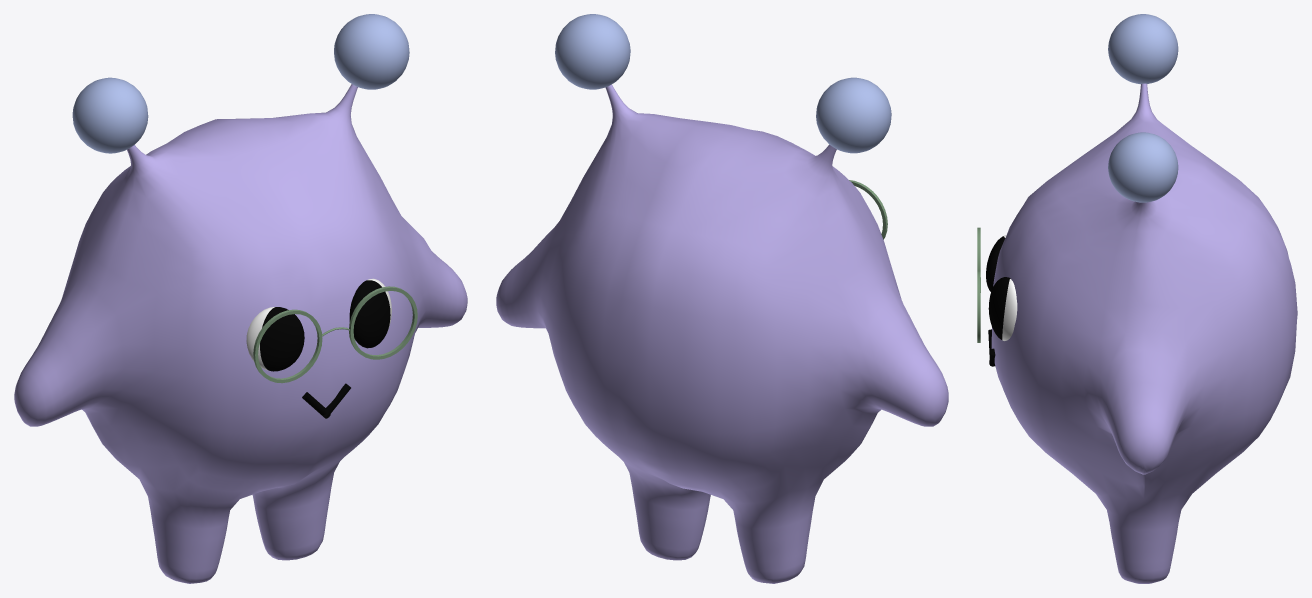
The model's file is bloby old.fbx.
3 renders of one model, left to right at view 1: azimuth 30°, elevation 25°; view 2: azimuth 150°, elevation 25°; view 3: azimuth 270°, elevation 25°, orthographic. The views are drawn at different scales.
Parts seen in each view (by area): view 1: Cube, Sphere.001, Sphere, Sphere.004, Sphere.005, Circle, Circle.001; view 2: Cube, Sphere, Sphere.001; view 3: Cube, Sphere.001, Sphere, Sphere.005, Sphere.004.
Boxes of the visible parts, box(x1,y1,x2,y2) form: Cube: box(14, 84, 467, 583); Sphere.001: box(334, 14, 409, 89); Sphere: box(72, 77, 148, 153); Sphere.004: box(246, 307, 304, 371); Sphere.005: box(349, 278, 391, 348); Circle: box(253, 309, 322, 383); Circle.001: box(349, 286, 417, 359); Cube: box(496, 84, 948, 583); Sphere: box(816, 77, 891, 153); Sphere.001: box(555, 14, 630, 89); Cube: box(991, 83, 1297, 583); Sphere.001: box(1108, 132, 1178, 202); Sphere: box(1108, 14, 1178, 84); Sphere.005: box(988, 277, 1017, 340); Sphere.004: box(986, 235, 1006, 291).
Size of the model in its own units: 367 by 407 by 245.
